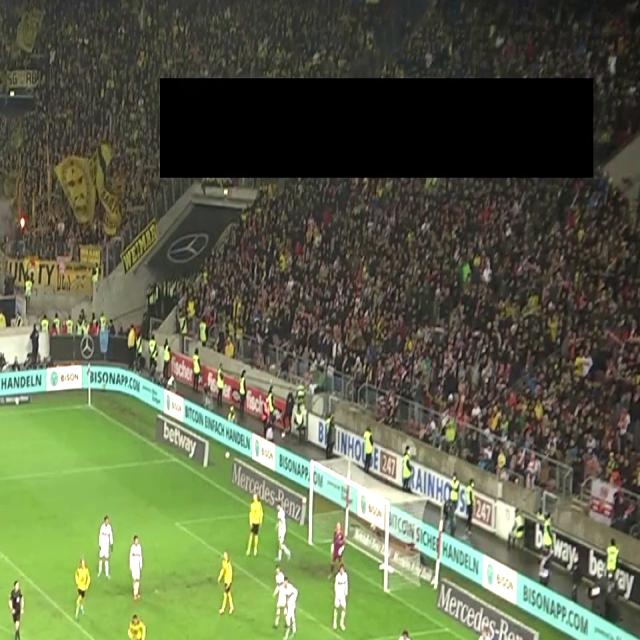goalkeeper: (320, 510, 349, 592)
referee: (0, 571, 40, 640)
soccer-player: (268, 565, 303, 640), (327, 562, 356, 639), (211, 550, 240, 623), (244, 490, 272, 562), (89, 512, 117, 583), (124, 530, 150, 603), (68, 552, 95, 620), (467, 612, 508, 640), (125, 610, 153, 640), (392, 626, 420, 640), (506, 629, 534, 640)
